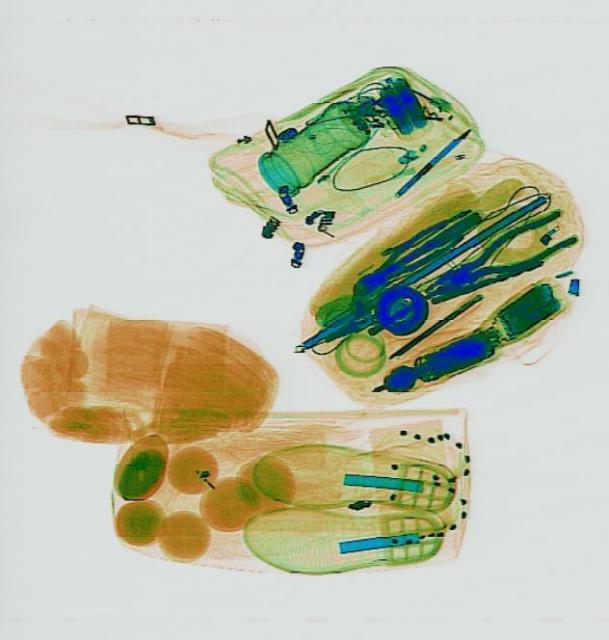Pliers: (414, 204, 578, 316), (342, 210, 466, 304)
